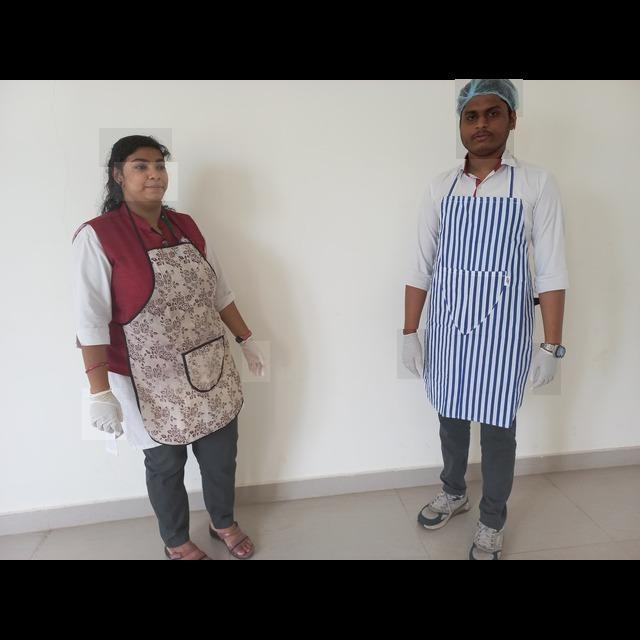apron: (82, 389, 128, 441), (398, 330, 428, 380), (534, 344, 562, 396), (242, 342, 270, 383)
gloves: (456, 80, 524, 118)
no_gloves: (100, 129, 173, 168)
no_hairnet: (457, 111, 515, 160), (115, 162, 179, 202)
